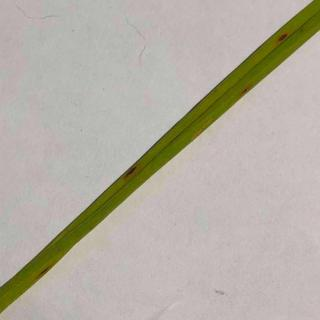bercak-Cokelat: (124, 164, 143, 183), (276, 31, 293, 47), (237, 85, 256, 97)
